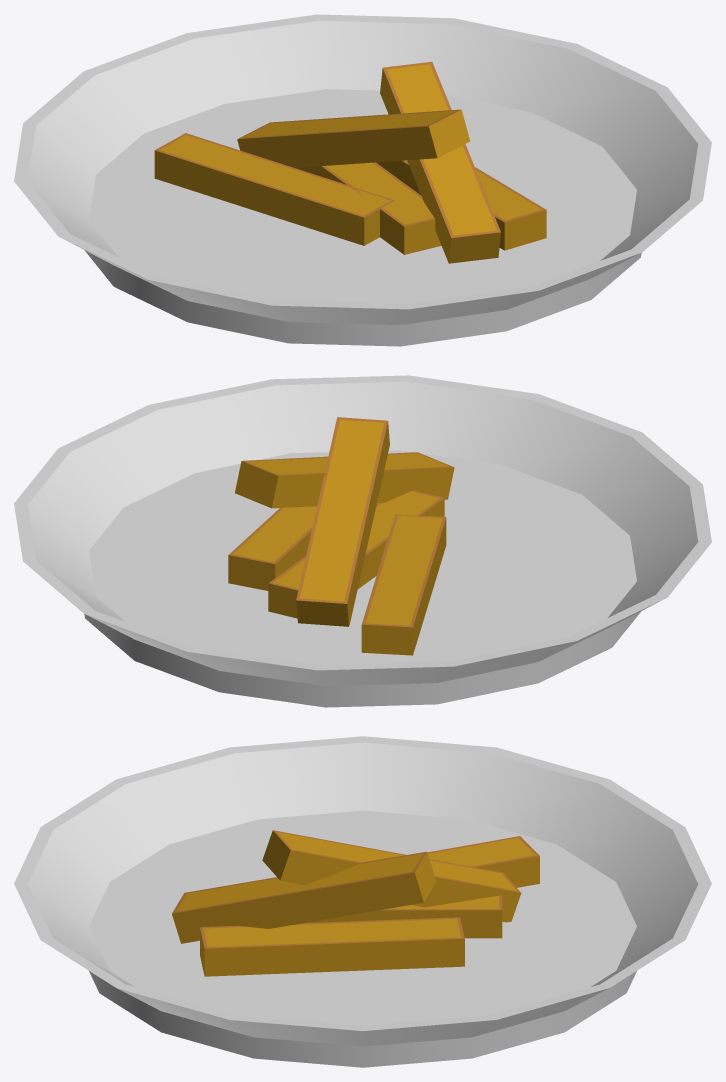
File: Papas fritas.fbx
3 views of the same model, one above another, from view 1: azimuth 30°, elevation 25°; view 2: azimuth 150°, elevation 25°; view 3: azimuth 270°, elevation 25° (orthographic).
Visible parts, largest first — view 1: Plato.023; view 2: Plato.023; view 3: Plato.023.
Part boxes in pixels (left/top/right/bottom): Plato.023: left=14, top=14, right=711, bottom=346; Plato.023: left=14, top=375, right=711, bottom=707; Plato.023: left=14, top=736, right=711, bottom=1067.
Bounding box in the file's own units: 238 × 47.76 × 238.
